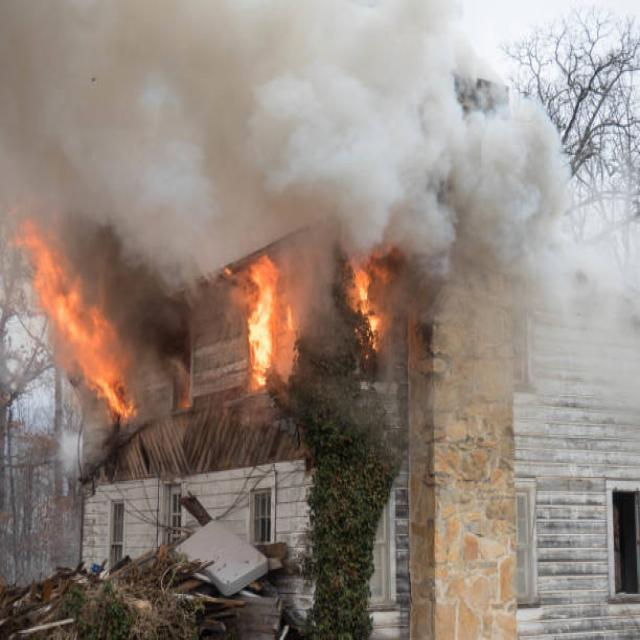Fire: (19, 227, 138, 424), (236, 256, 302, 398), (348, 252, 394, 335)
Smoke: (212, 7, 584, 290), (0, 0, 226, 321)
